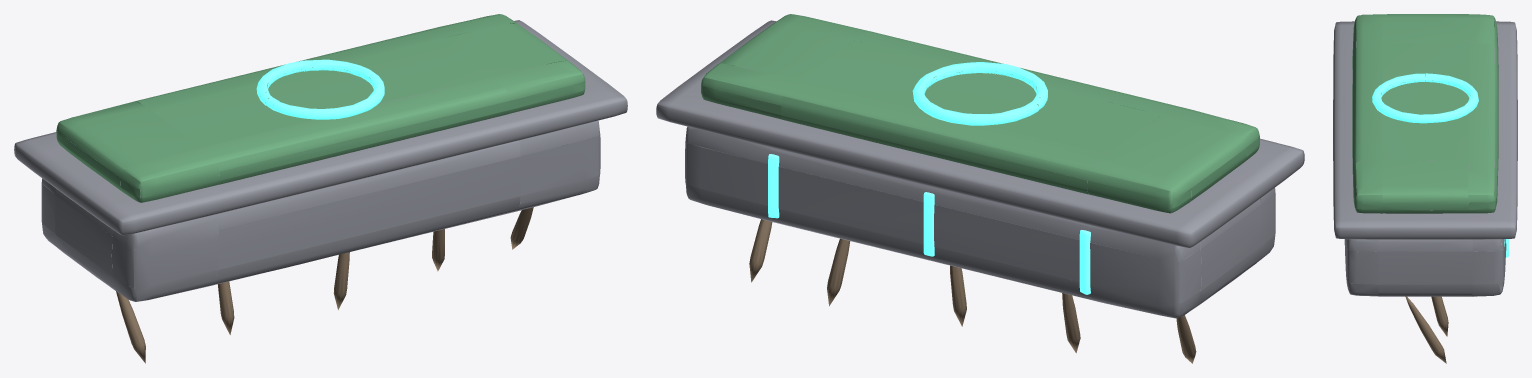
File: mossy_platform.glb
3 renders of one model, left to right at view 1: azimuth 30°, elevation 25°; view 2: azimuth 150°, elevation 25°; view 3: azimuth 270°, elevation 25°, orthographic. The views are drawn at different scales.
Parts seen in each view (by area): view 1: moss_cap, ledge_slab, ledge_lip, rune_ring, root_0; view 2: moss_cap, ledge_slab, ledge_lip, root_0, rune_ring, rune_vein_0, rune_vein_1, rune_vein_2; view 3: moss_cap, ledge_lip, ledge_slab, rune_ring, root_0.
Part boxes in pixels (<box>): moss_cap: <box>56,14,585,202</box>; ledge_slab: <box>41,120,600,301</box>; ledge_lip: <box>14,20,627,235</box>; rune_ring: <box>256,59,384,119</box>; root_0: <box>116,207,533,363</box>; moss_cap: <box>701,14,1259,213</box>; ledge_slab: <box>685,126,1275,318</box>; ledge_lip: <box>656,20,1304,247</box>; root_0: <box>749,219,1196,363</box>; rune_ring: <box>912,62,1047,125</box>; rune_vein_0: <box>1079,230,1090,294</box>; rune_vein_1: <box>923,192,934,256</box>; rune_vein_2: <box>768,154,779,218</box>; moss_cap: <box>1352,14,1498,213</box>; ledge_lip: <box>1333,21,1517,239</box>; ledge_slab: <box>1344,239,1506,296</box>; rune_ring: <box>1372,73,1478,123</box>; root_0: <box>1405,296,1448,363</box>.
Size of the model in its own units: 4.5 by 1.94 by 1.7.
